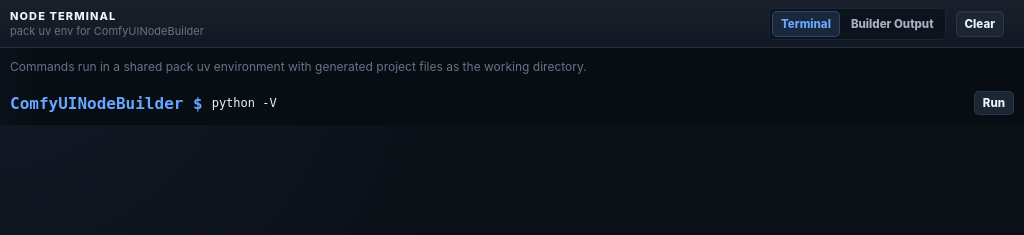
Test: terminal panel › renders as a regular terminal with tabbed builder logs instead of side-by-side panes
Expected: the element with class "terminal-screen" is shown, 0,48 -> 1023,125
Expected: the form with class "terminal-prompt-row" is shown, 10,83 -> 1014,115
Click the tab with aria-label "Builder Output tab".
click(892, 24)  # box 842,11 -> 943,37
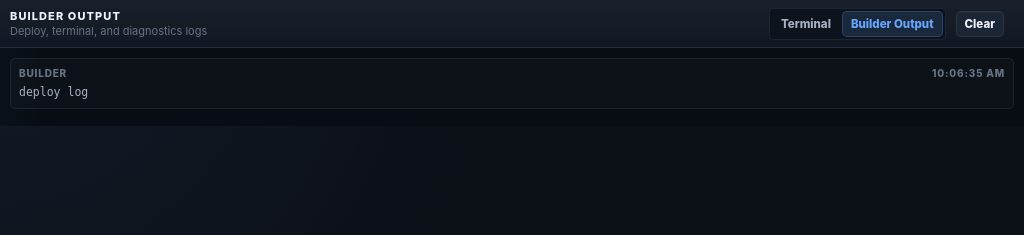
Result: the text "deploy log" is shown at 19,85 -> 88,99
